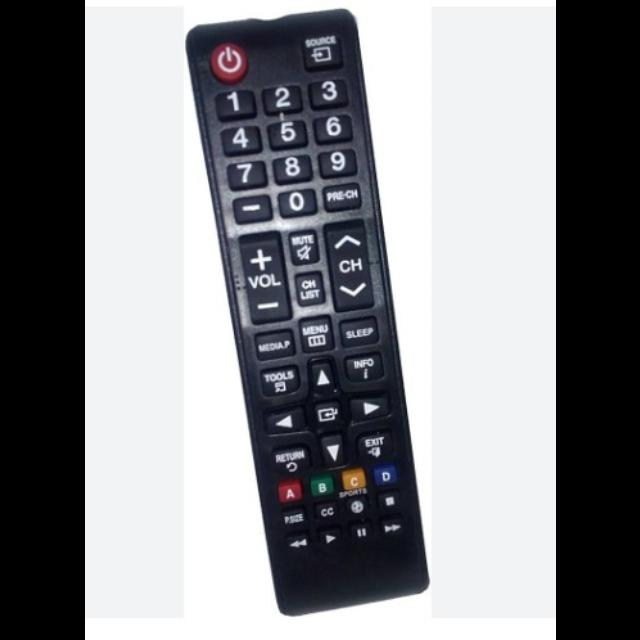TV-Remote-Control: (184, 9, 431, 621)
